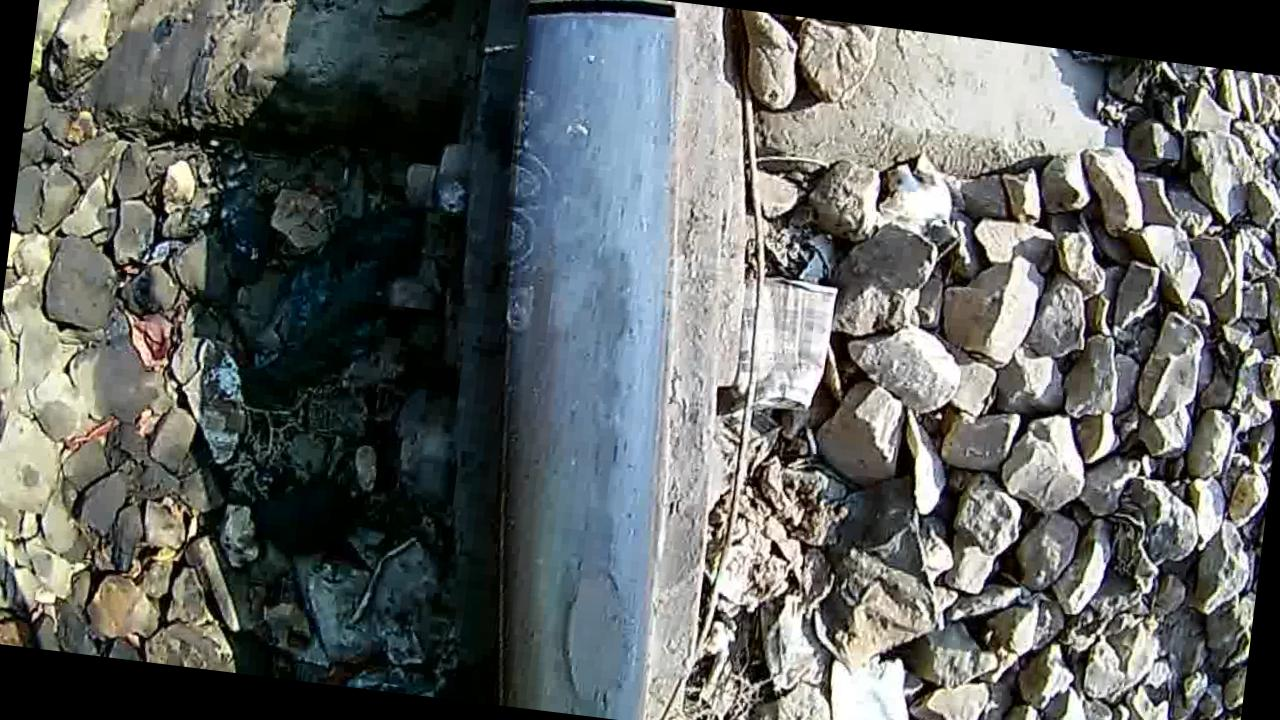bolt_missing: (508, 109, 708, 478), (462, 454, 688, 720)
